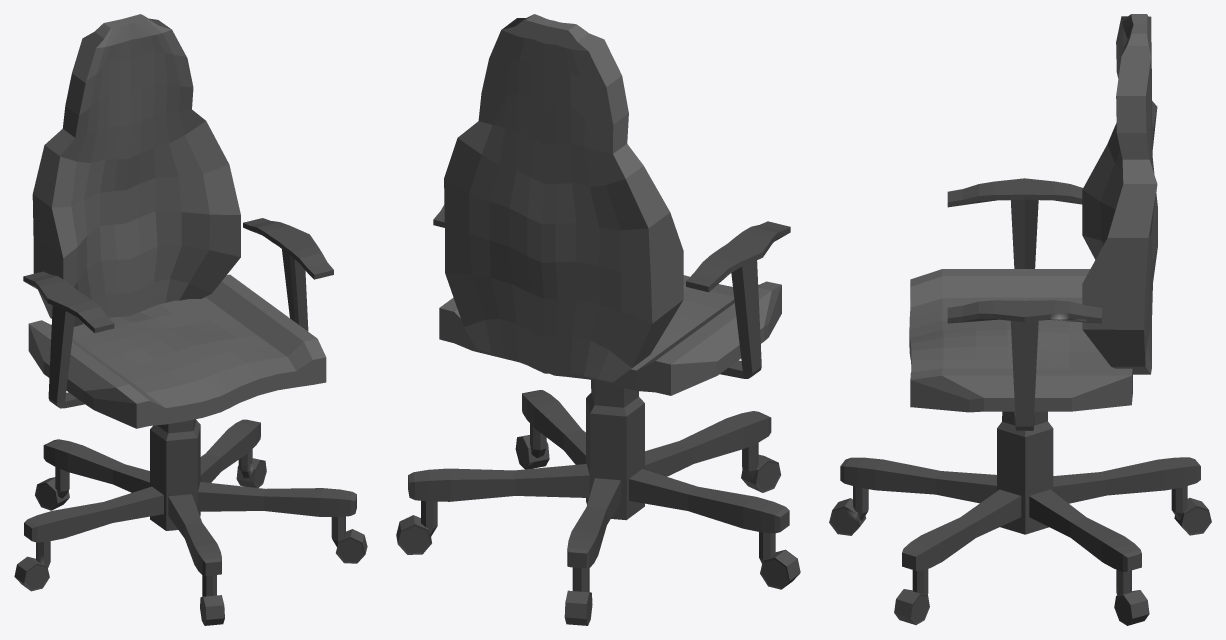
The model's file is gamingchair.fbx.
The picture shows the model from 3 angles, left to right: view 1: azimuth 30°, elevation 25°; view 2: azimuth 150°, elevation 25°; view 3: azimuth 270°, elevation 25°; orthographic projection. The views are drawn at different scales.
Parts seen in each view (by area): view 1: Kostka; view 2: Kostka; view 3: Kostka.
Boxes of the visible parts, x1,y1,x2,y2 form: Kostka: (14,14,367,625); Kostka: (396,14,800,625); Kostka: (829,14,1211,625).
Bounding box in the file's own units: 2233 × 3525 × 2298.
